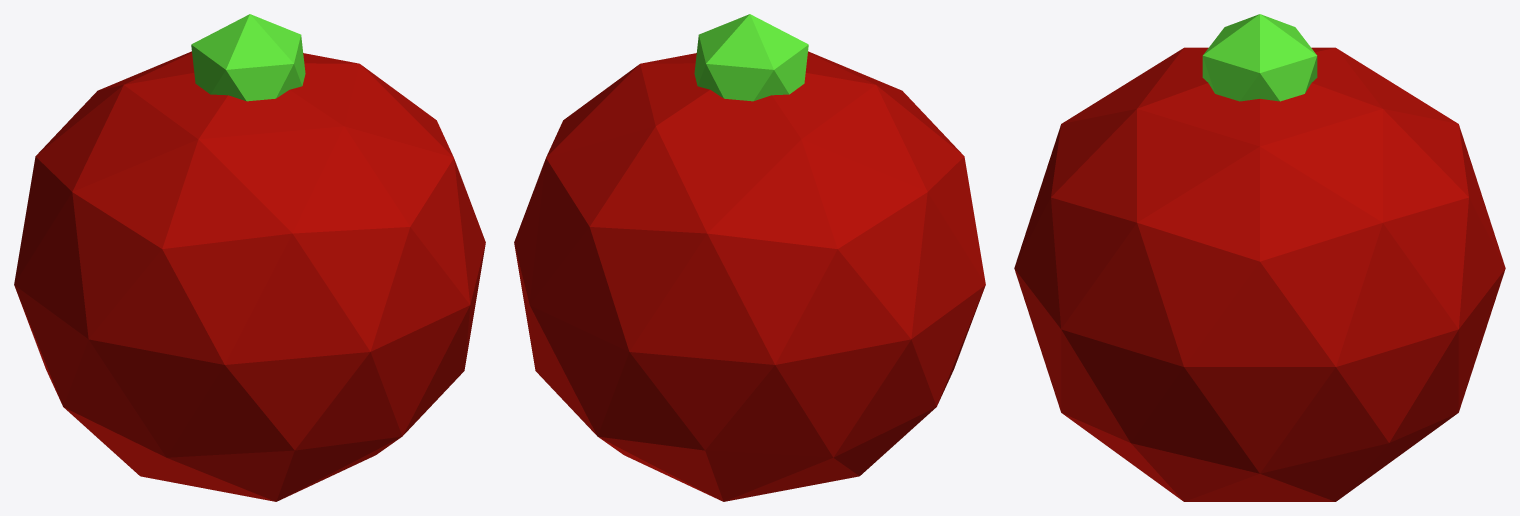
Rendered from barry.fbx.
3 views of the same model, side by side, from view 1: azimuth 30°, elevation 25°; view 2: azimuth 150°, elevation 25°; view 3: azimuth 270°, elevation 25° (orthographic).
Parts seen in each view (by area): view 1: barry; view 2: barry; view 3: barry.
Part boxes in pixels (<box>): barry: <box>14,14,485,501</box>; barry: <box>514,14,985,501</box>; barry: <box>1014,14,1505,501</box>.
Bounding box in the file's own units: 32.7 × 36.83 × 34.39.
